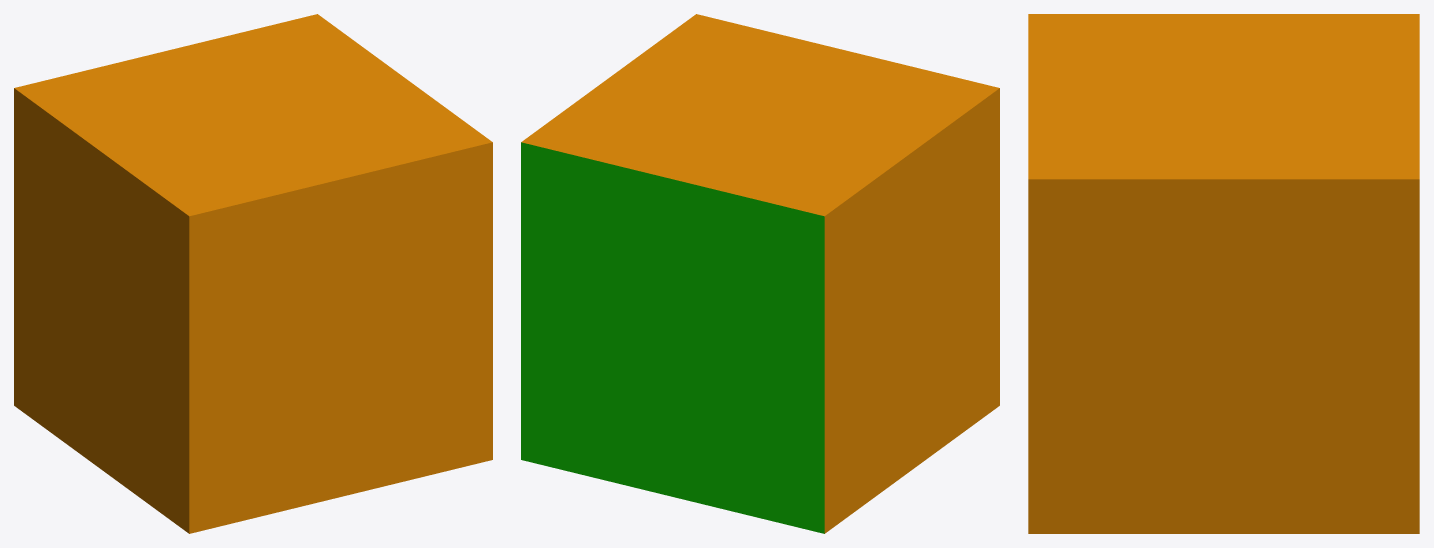
The model's file is floor2.fbx.
3 renders of one model, left to right at view 1: azimuth 30°, elevation 25°; view 2: azimuth 150°, elevation 25°; view 3: azimuth 270°, elevation 25°, orthographic. The views are drawn at different scales.
Parts seen in each view (by area): view 1: Cube; view 2: Cube; view 3: Cube.
Part boxes in pixels (<box>): Cube: <box>14,14,492,533</box>; Cube: <box>521,14,999,533</box>; Cube: <box>1028,14,1419,533</box>.
Bounding box in the file's own units: 200 × 200 × 200.
